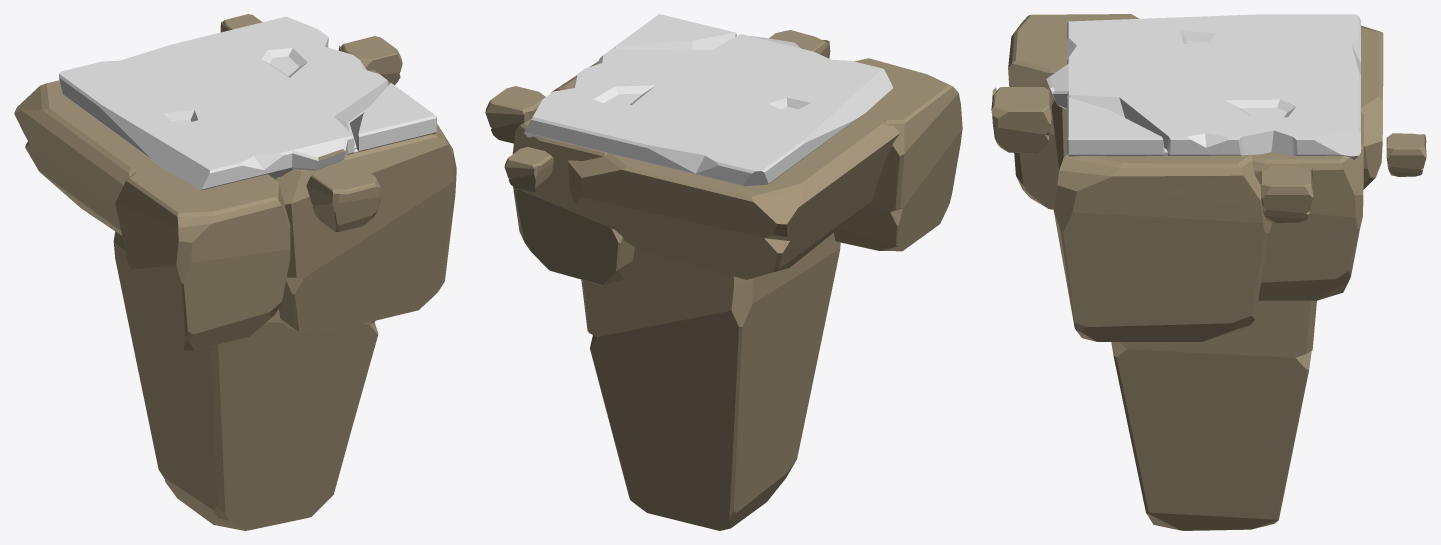
The model's file is FloatingFloorBox3.fbx.
The picture shows the model from 3 angles, left to right: view 1: azimuth 30°, elevation 25°; view 2: azimuth 150°, elevation 25°; view 3: azimuth 270°, elevation 25°; orthographic projection. The views are drawn at different scales.
Visible parts, largest first — view 1: floor3.001; view 2: floor3.001; view 3: floor3.001.
Boxes of the visible parts, bbox=[...] form: floor3.001: bbox=[14, 14, 456, 530]; floor3.001: bbox=[485, 14, 962, 530]; floor3.001: bbox=[991, 14, 1426, 530].
Size of the model in its own units: 377 by 432 by 394.
